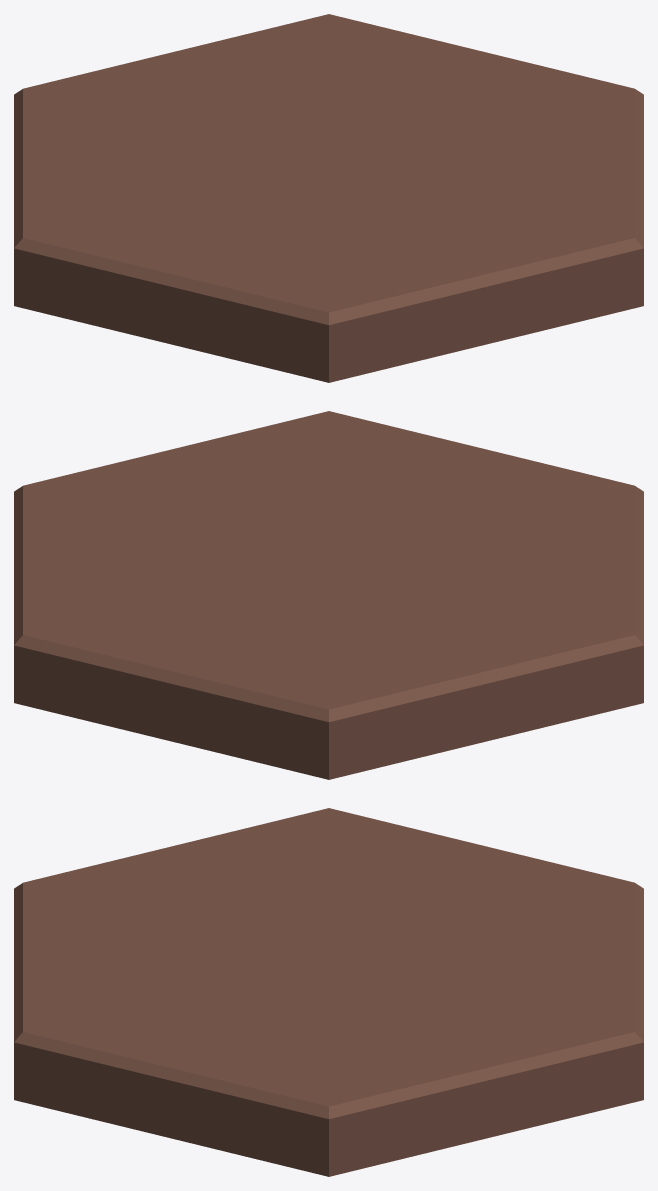
File: simple_tile_mountain.gltf
3 views of the same model, one above another, from view 1: azimuth 30°, elevation 25°; view 2: azimuth 150°, elevation 25°; view 3: azimuth 270°, elevation 25° (orthographic).
Visible parts, largest first — view 1: Circle; view 2: Circle; view 3: Circle.
Boxes of the visible parts, <box> form: Circle: <box>14,14,643,382</box>; Circle: <box>14,411,643,779</box>; Circle: <box>14,808,643,1176</box>.
Size of the model in its own units: 2 by 0.2 by 1.73.
